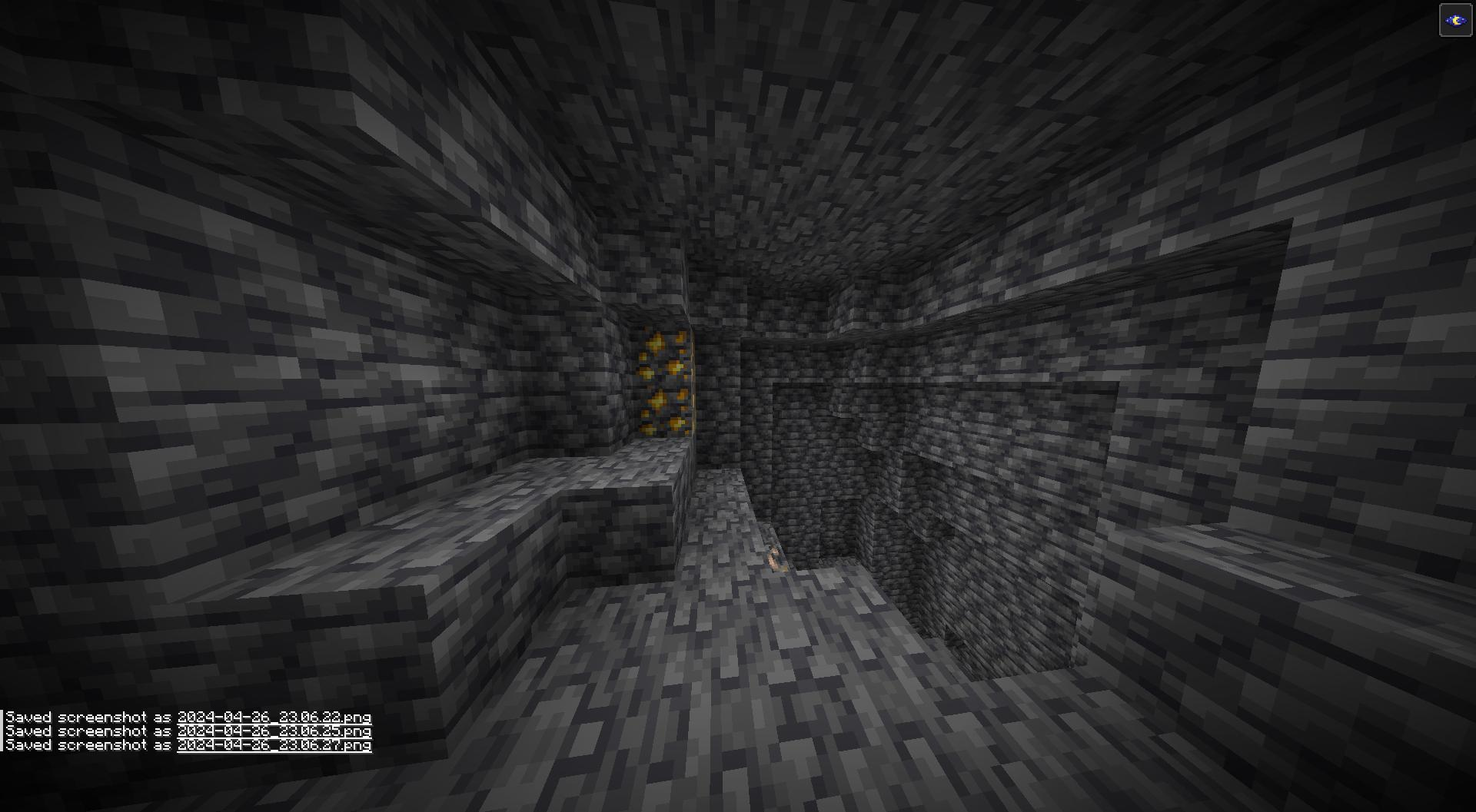gold ore: (631, 383, 698, 437), (627, 325, 690, 382)
